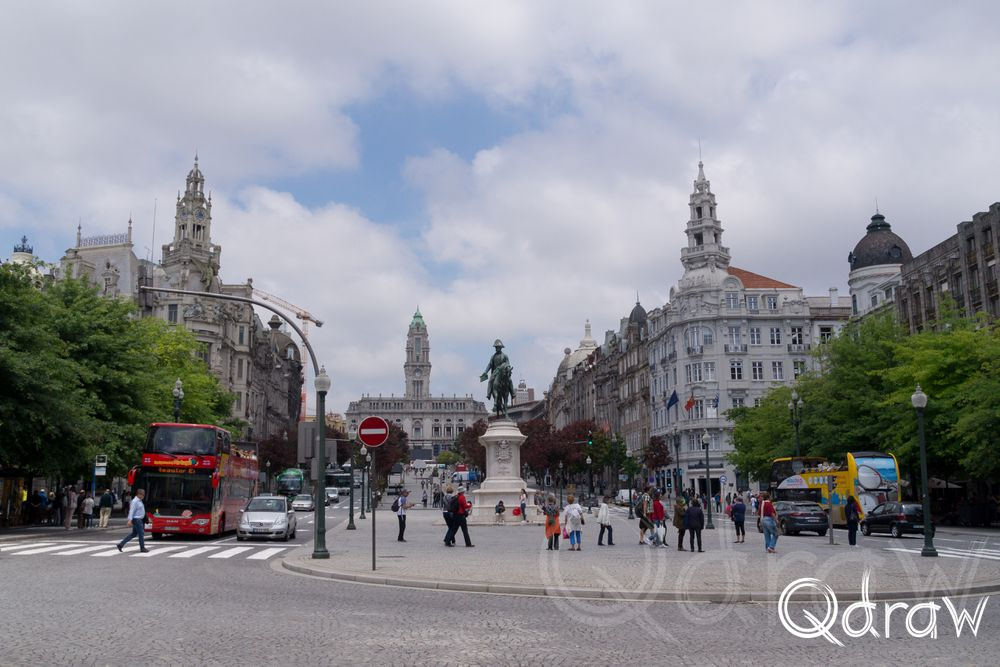camara: (340, 304, 494, 456)
